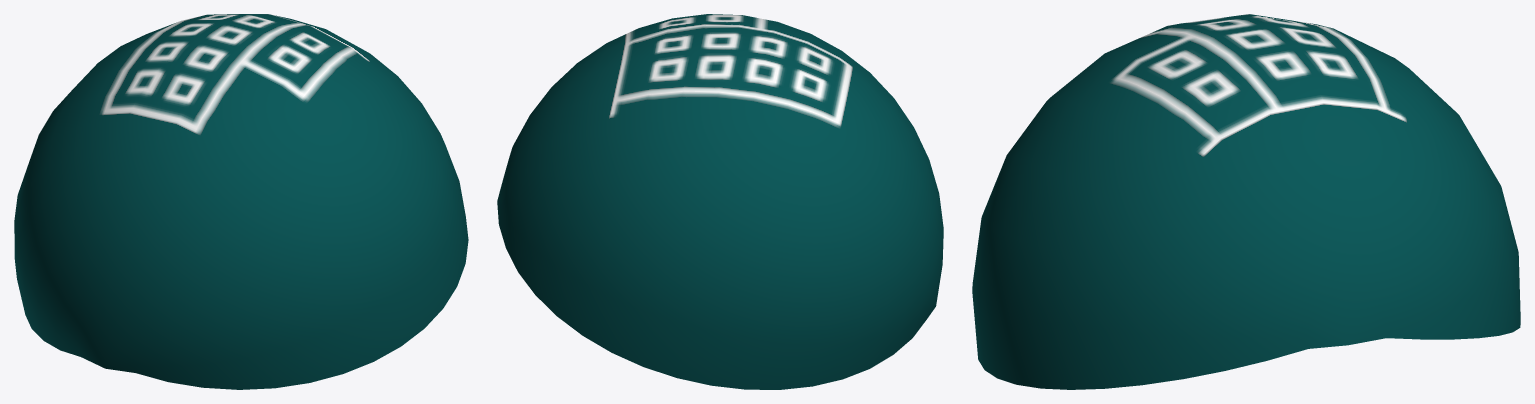
The model's file is Models_Button_Buildings.fbx.
The picture shows the model from 3 angles, left to right: view 1: azimuth 30°, elevation 25°; view 2: azimuth 150°, elevation 25°; view 3: azimuth 270°, elevation 25°; orthographic projection. The views are drawn at different scales.
Visible parts, largest first — view 1: pSphere38; view 2: pSphere38; view 3: pSphere38.
Boxes of the visible parts, x1,y1,x2,y2 form: pSphere38: [14, 14, 468, 389]; pSphere38: [497, 14, 943, 389]; pSphere38: [972, 14, 1520, 389].
Size of the model in its own units: 7.35 by 4.88 by 7.38.
Materials: 1 (1 with a texture image).
